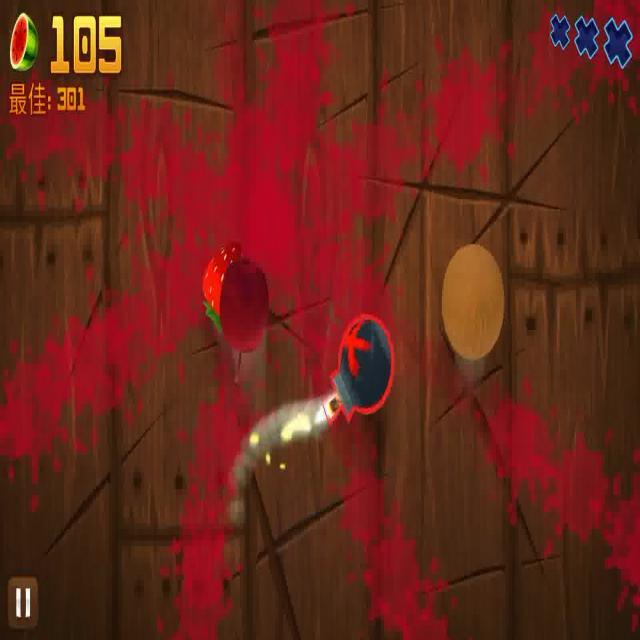bomb: (322, 310, 394, 424)
fruit: (442, 240, 506, 358), (222, 260, 270, 354), (202, 242, 242, 330)
